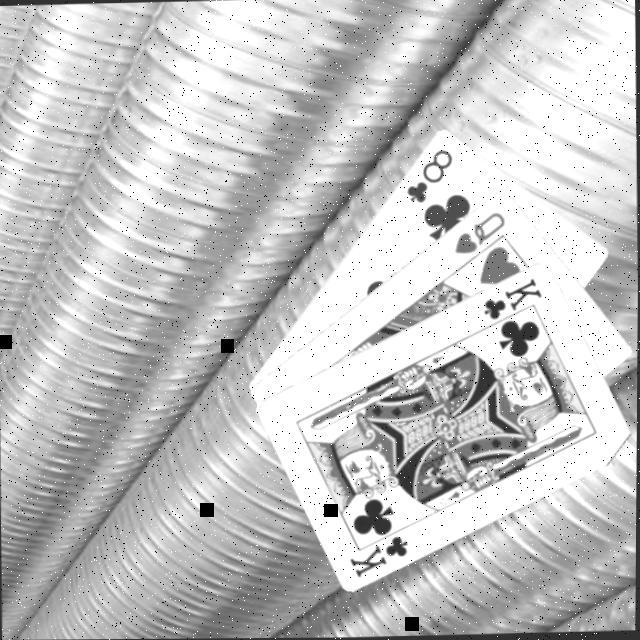8C: (399, 147, 454, 208)
KC: (345, 523, 411, 582), (478, 276, 544, 334)
QH: (448, 209, 507, 259)
